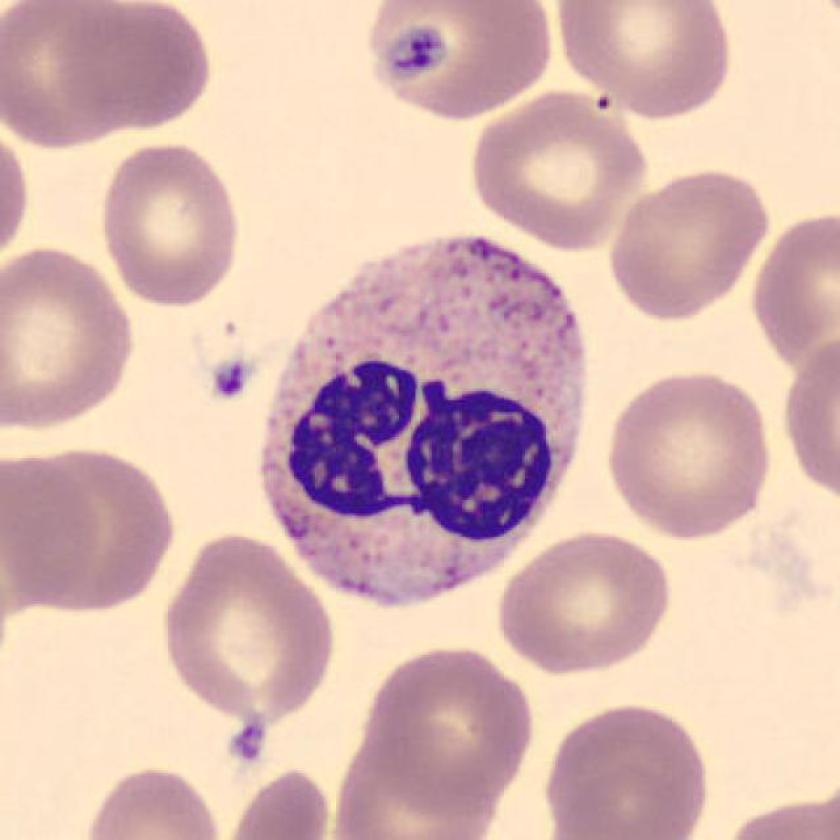neutrophil: (264, 240, 584, 603)
